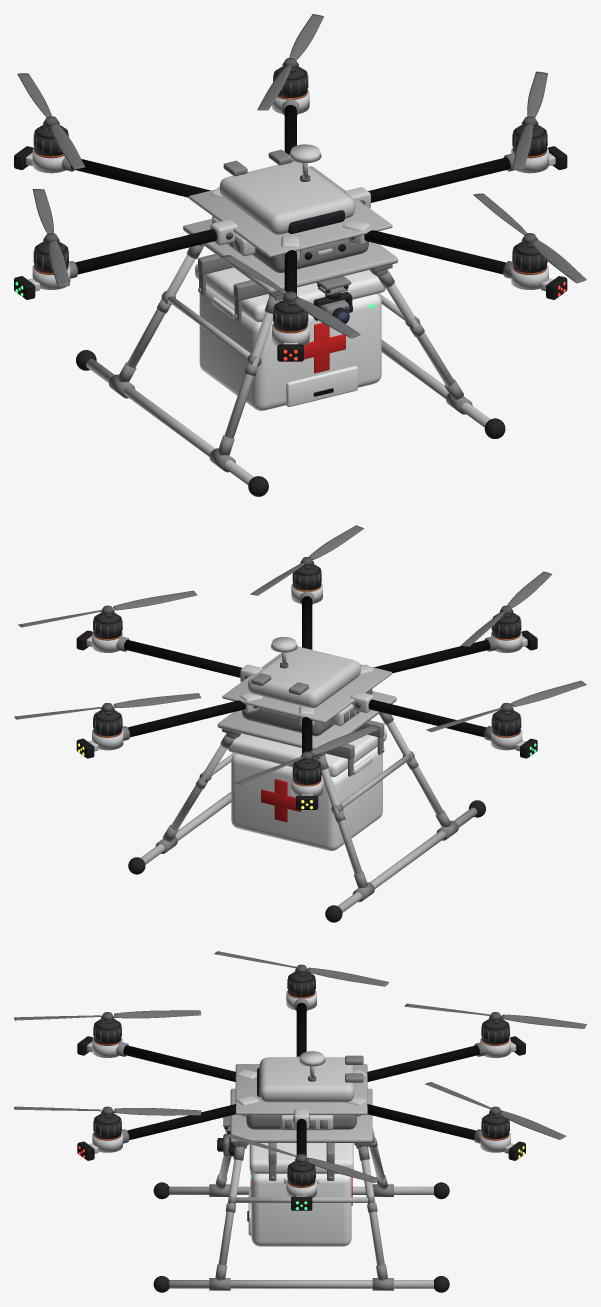
File: Hexa_Medical_Drone_White.glb
3 renders of one model, top to bottom at view 1: azimuth 30°, elevation 25°; view 2: azimuth 150°, elevation 25°; view 3: azimuth 270°, elevation 25°, orthographic. The views are drawn at different scales.
Visible parts, largest first — view 1: DJI_Arms_Motors, DJI_Body, DJI_MedicalBox, DJI_LandingGear, DJI_Mount_Gimbal, DJI_LED_Pods, DJI_Prop_Front_Right, DJI_Prop_Front_Left, DJI_Prop_Rear_Left, DJI_Prop_Rear_Right, DJI_Prop_Mid_Left, DJI_Prop_Mid_Right; view 2: DJI_Arms_Motors, DJI_MedicalBox, DJI_Body, DJI_LandingGear, DJI_LED_Pods, DJI_Prop_Rear_Left, DJI_Prop_Mid_Left, DJI_Prop_Mid_Right, DJI_Prop_Rear_Right, DJI_Prop_Front_Left, DJI_Prop_Front_Right, DJI_Mount_Gimbal; view 3: DJI_Arms_Motors, DJI_Body, DJI_LandingGear, DJI_MedicalBox, DJI_LED_Pods, DJI_Prop_Front_Right, DJI_Mount_Gimbal, DJI_Prop_Rear_Right, DJI_Prop_Front_Left, DJI_Prop_Mid_Right, DJI_Prop_Mid_Left, DJI_Prop_Rear_Left.
Part boxes in pixels (bbox=[...]): DJI_Arms_Motors: bbox=[32, 66, 548, 345]; DJI_Body: bbox=[183, 144, 398, 293]; DJI_MedicalBox: bbox=[195, 263, 385, 410]; DJI_LandingGear: bbox=[76, 244, 505, 496]; DJI_Mount_Gimbal: bbox=[198, 254, 352, 326]; DJI_LED_Pods: bbox=[14, 146, 567, 361]; DJI_Prop_Front_Right: bbox=[221, 255, 360, 338]; DJI_Prop_Front_Left: bbox=[473, 193, 586, 283]; DJI_Prop_Rear_Left: bbox=[257, 14, 323, 110]; DJI_Prop_Rear_Right: bbox=[17, 73, 85, 169]; DJI_Prop_Mid_Left: bbox=[512, 71, 547, 169]; DJI_Prop_Mid_Right: bbox=[32, 189, 69, 287]; DJI_Arms_Motors: bbox=[92, 564, 522, 796]; DJI_MedicalBox: bbox=[228, 728, 386, 850]; DJI_Body: bbox=[217, 637, 396, 753]; DJI_LandingGear: bbox=[128, 712, 485, 922]; DJI_LED_Pods: bbox=[76, 630, 537, 809]; DJI_Prop_Rear_Left: bbox=[14, 693, 201, 719]; DJI_Prop_Mid_Left: bbox=[18, 590, 197, 627]; DJI_Prop_Mid_Right: bbox=[426, 680, 586, 731]; DJI_Prop_Rear_Right: bbox=[235, 725, 379, 784]; DJI_Prop_Front_Left: bbox=[250, 525, 363, 595]; DJI_Prop_Front_Right: bbox=[460, 571, 552, 646]; DJI_Mount_Gimbal: bbox=[326, 720, 384, 776]; DJI_Arms_Motors: bbox=[92, 972, 510, 1197]; DJI_Body: bbox=[230, 1051, 372, 1142]; DJI_LandingGear: bbox=[153, 1128, 449, 1292]; DJI_MedicalBox: bbox=[247, 1143, 353, 1246]; DJI_LED_Pods: bbox=[77, 1036, 525, 1210]; DJI_Prop_Front_Right: bbox=[14, 1010, 201, 1020]; DJI_Mount_Gimbal: bbox=[217, 1115, 334, 1180]; DJI_Prop_Rear_Right: bbox=[404, 1003, 586, 1028]; DJI_Prop_Front_Left: bbox=[14, 1106, 201, 1115]; DJI_Prop_Mid_Right: bbox=[214, 951, 388, 986]; DJI_Prop_Mid_Left: bbox=[223, 1133, 379, 1183]; DJI_Prop_Rear_Left: bbox=[425, 1082, 565, 1139].
Bounding box in the file's own units: 2.08 × 0.827 × 2.17.
Materials: 24 (1 with a texture image).
